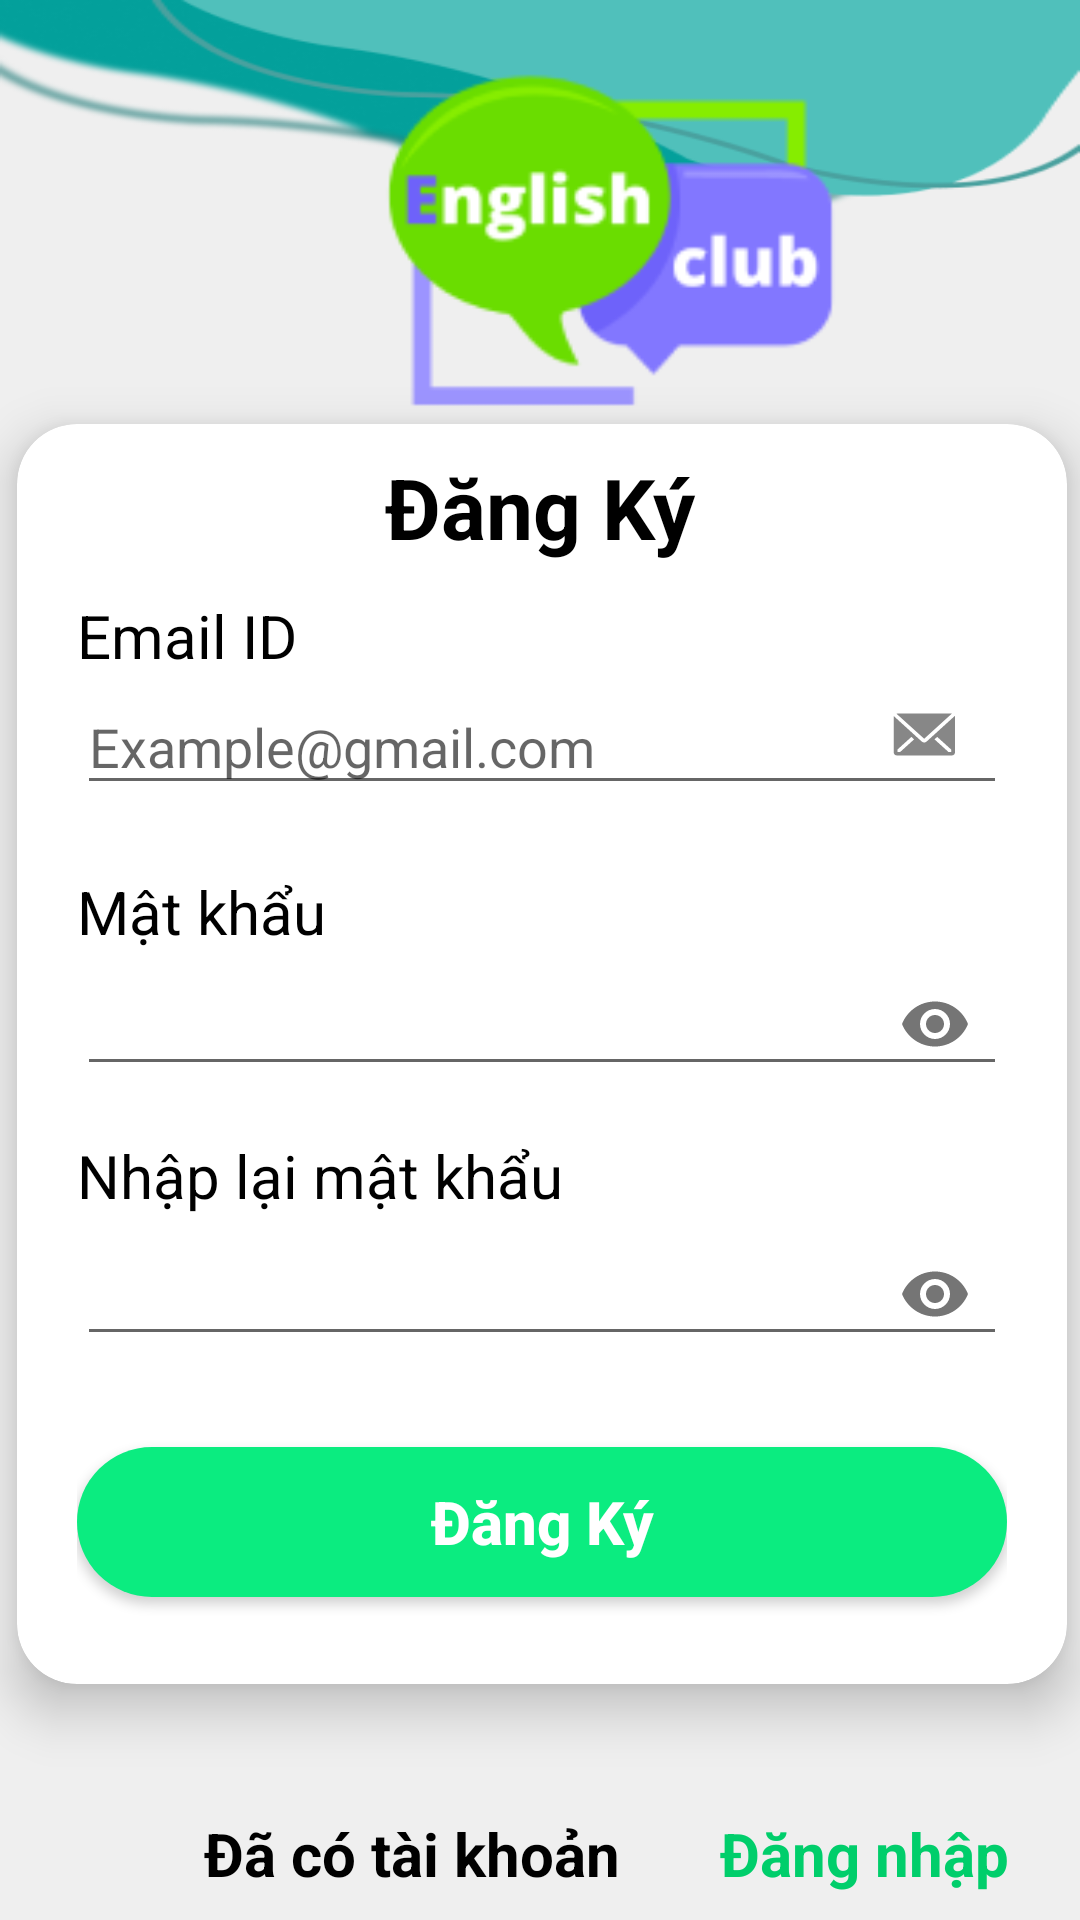

Where icons sit on this 1080 × 1920 app screen, as (x1, y1, x2, y2):
email: (893, 713, 955, 756)
